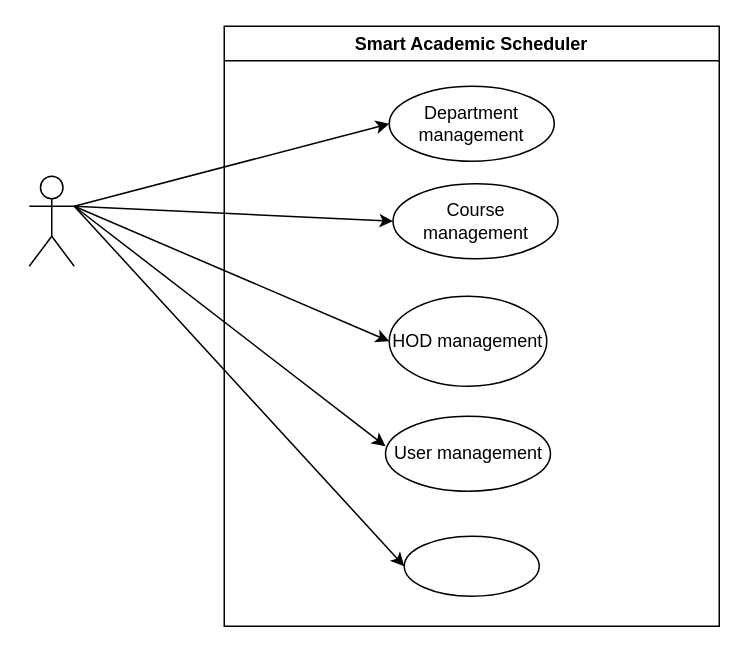
This 746x653 diagram has some shape labels left out. Each missing label, with the centre of its shape:
"Admin" belongs at (x=51, y=220).
"Login" belongs at (x=471, y=565).
